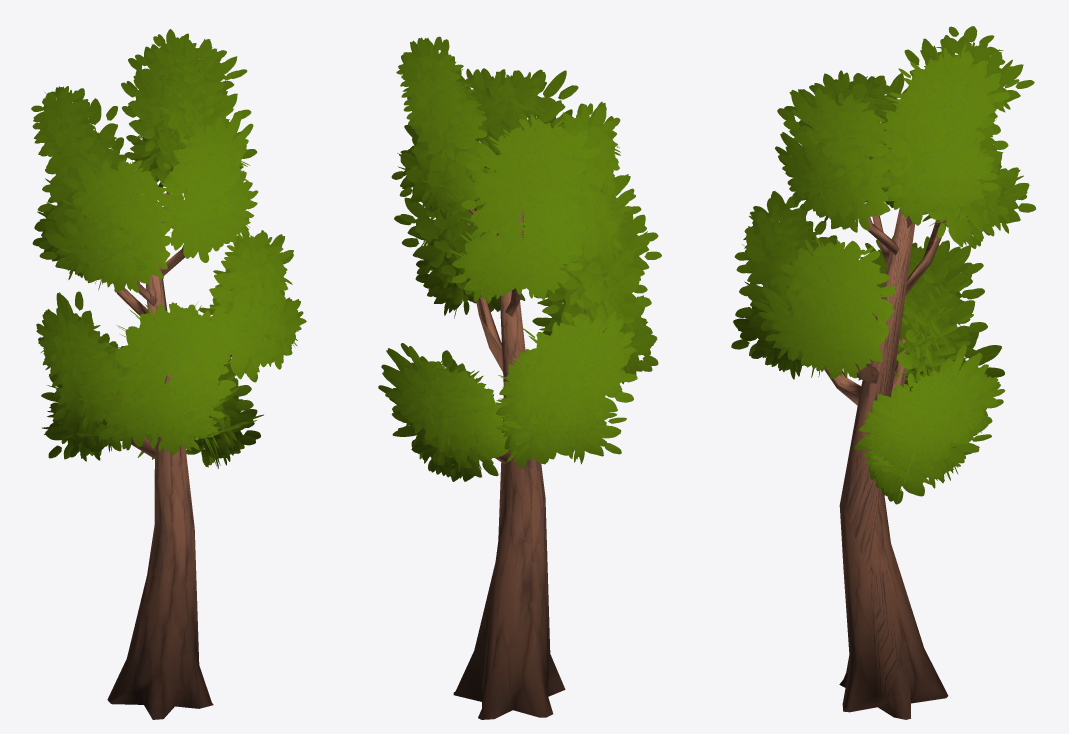
File: CommonTree_3.medium.gltf
The picture shows the model from 3 angles, left to right: view 1: azimuth 30°, elevation 25°; view 2: azimuth 150°, elevation 25°; view 3: azimuth 270°, elevation 25°; orthographic projection. The views are drawn at different scales.
Visible parts, largest first — view 1: CommonTree_3; view 2: CommonTree_3; view 3: CommonTree_3.
Boxes of the visible parts, <box> form: CommonTree_3: <box>31,29,306,719</box>; CommonTree_3: <box>378,36,661,719</box>; CommonTree_3: <box>731,26,1035,719</box>.
Bounding box in the file's own units: 4.06 × 9.43 × 4.24.
2 materials, 2 textured.
